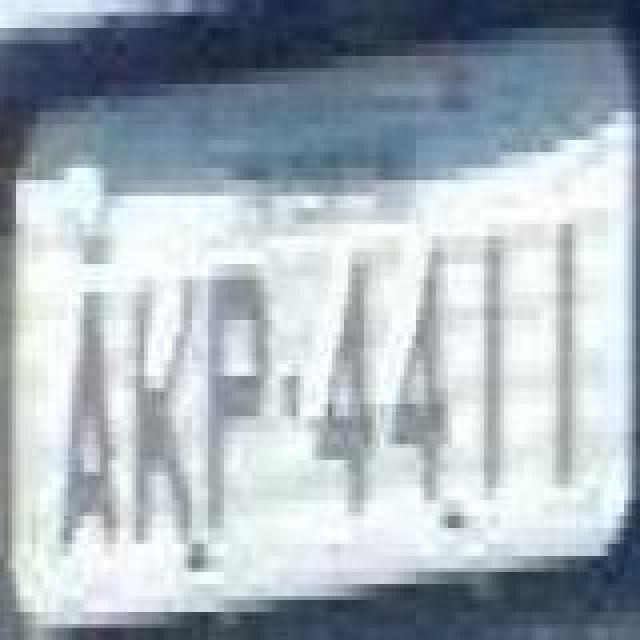1: (550, 206, 578, 498), (480, 230, 504, 506)
4: (392, 244, 456, 508), (314, 246, 374, 522)
A: (58, 294, 118, 570)
K: (130, 268, 198, 548)
P: (202, 256, 270, 536)
